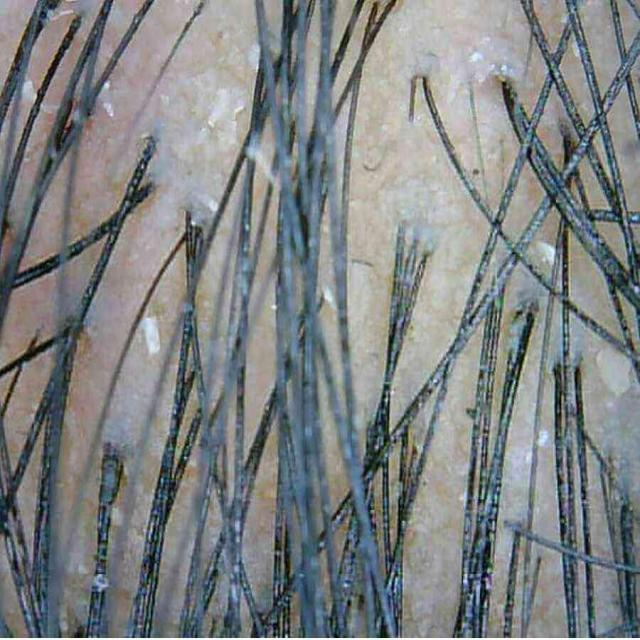d: (596, 348, 631, 396), (141, 312, 163, 358), (536, 242, 555, 266), (248, 42, 260, 69), (22, 80, 36, 101), (538, 431, 549, 446)
